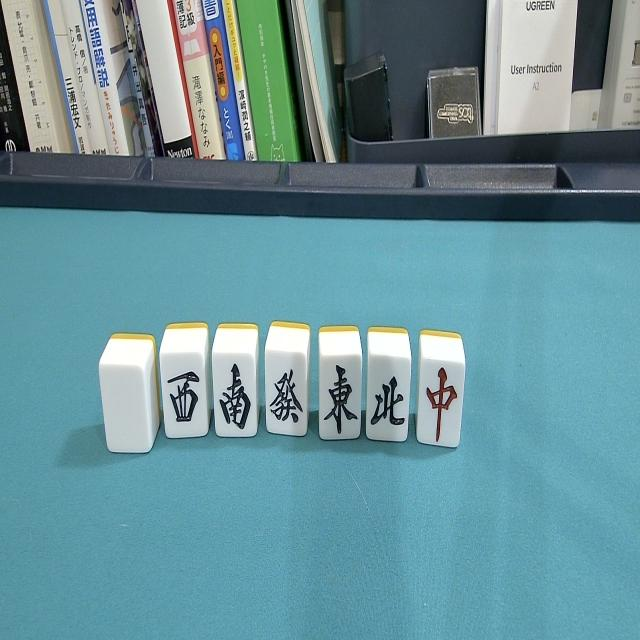chun: (414, 325, 468, 459)
haku: (98, 330, 160, 468)
hatsu: (262, 321, 313, 446)
nan: (211, 320, 263, 449)
pe-: (363, 326, 412, 455)
sya-: (159, 319, 213, 451)
ton: (315, 324, 363, 452)
